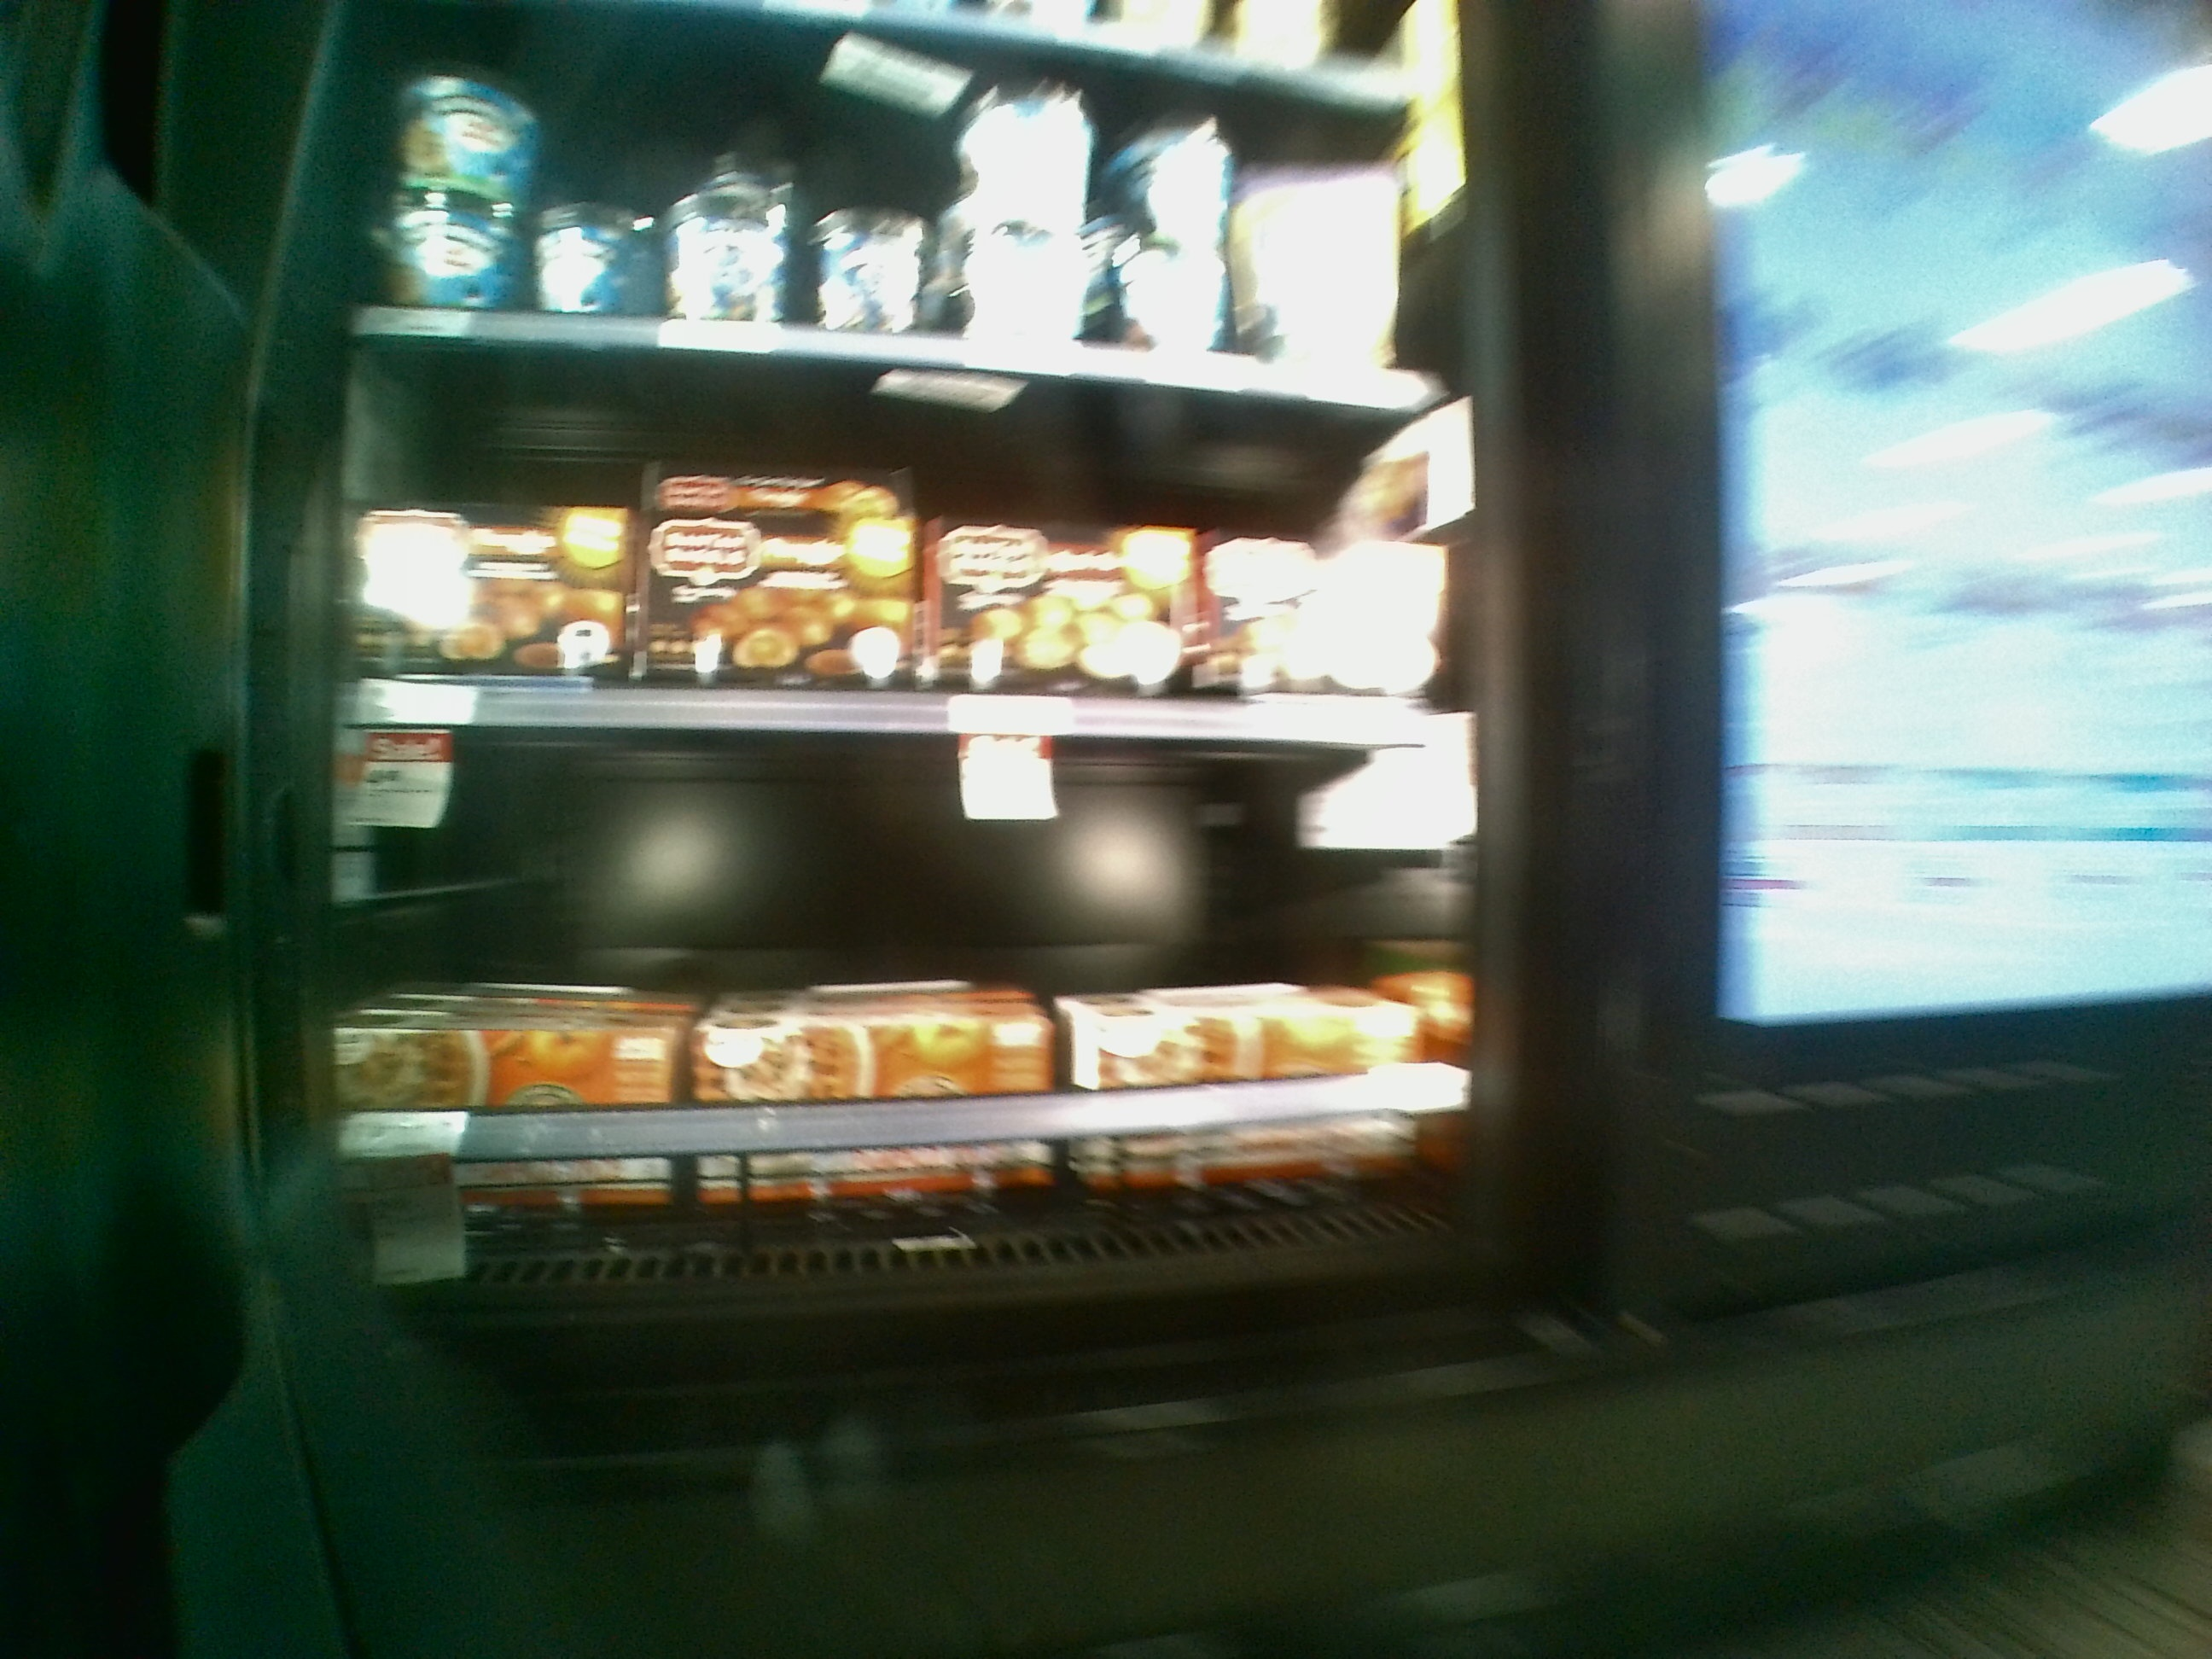shelf: (298, 708, 1480, 1276), (341, 333, 1474, 753)
